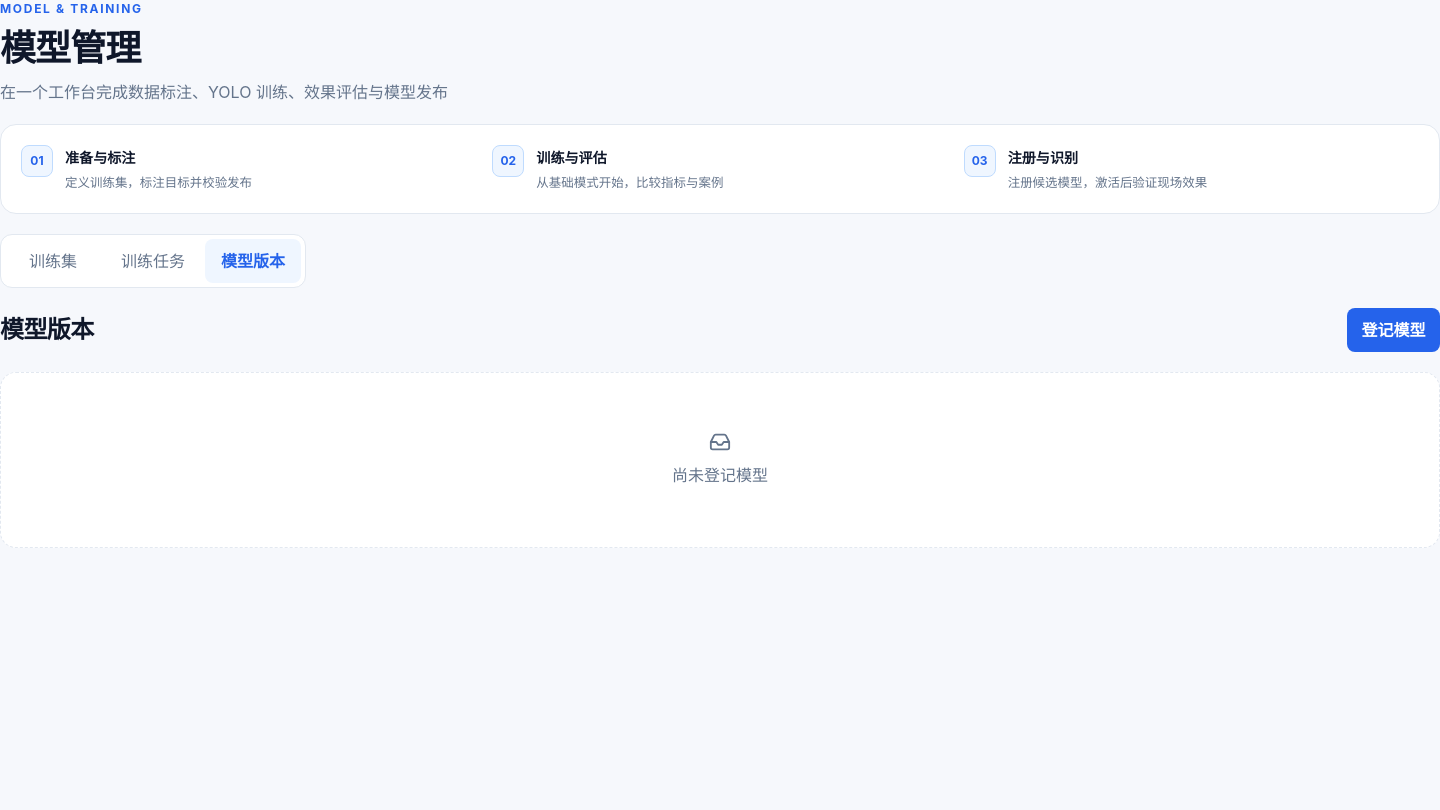
model training console › opens an advanced dialog prefilled from a safe clone template
Step 1. Click the tab "训练任务" → [153, 261], box [105,239,201,283]
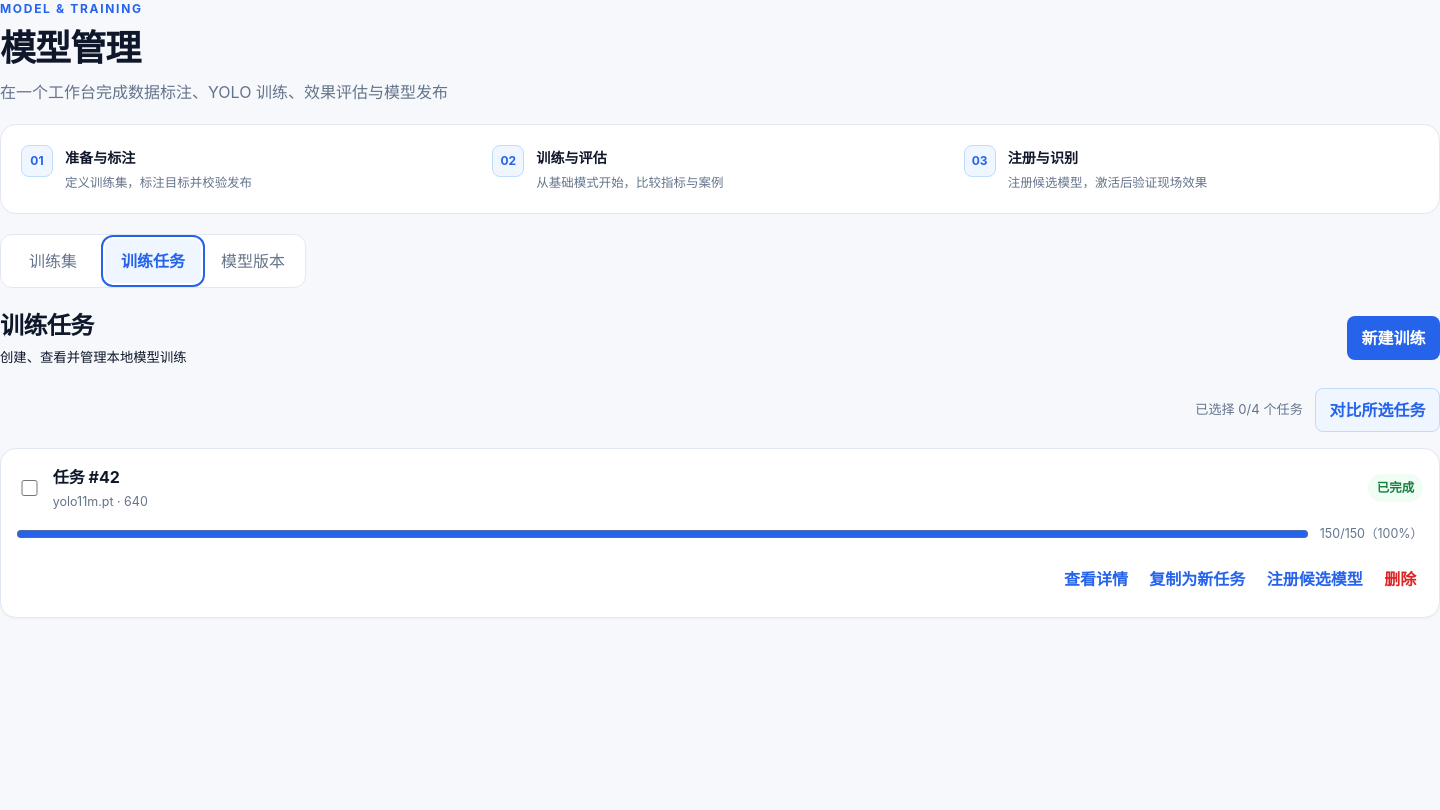
Step 2. Click the button with aria-label "复制任务 42" → [1197, 579], box [1143,557,1252,601]
(page scrolled)
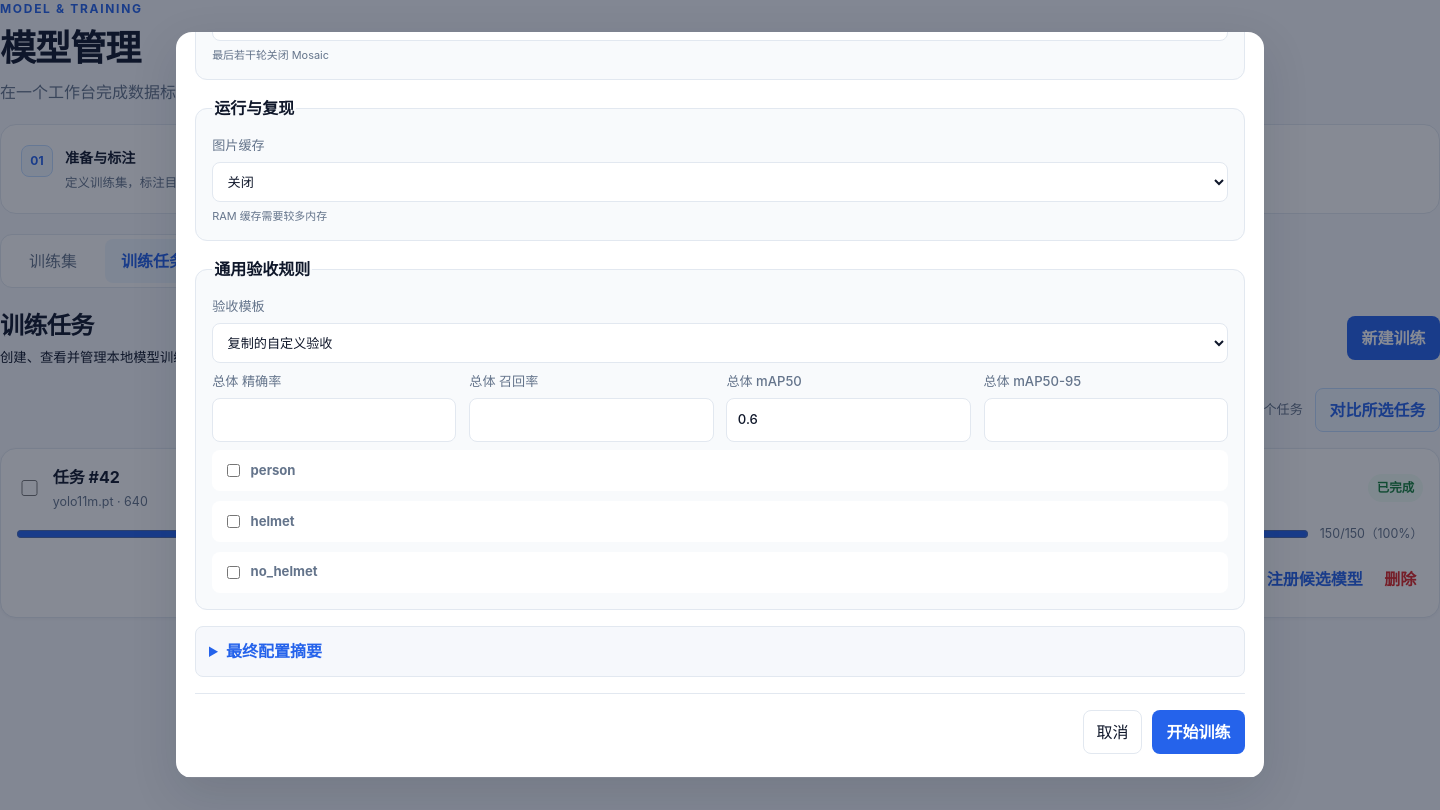
Expected: the number field labelled "总体 mAP50" holds "0.6", [726,398,971,442]
